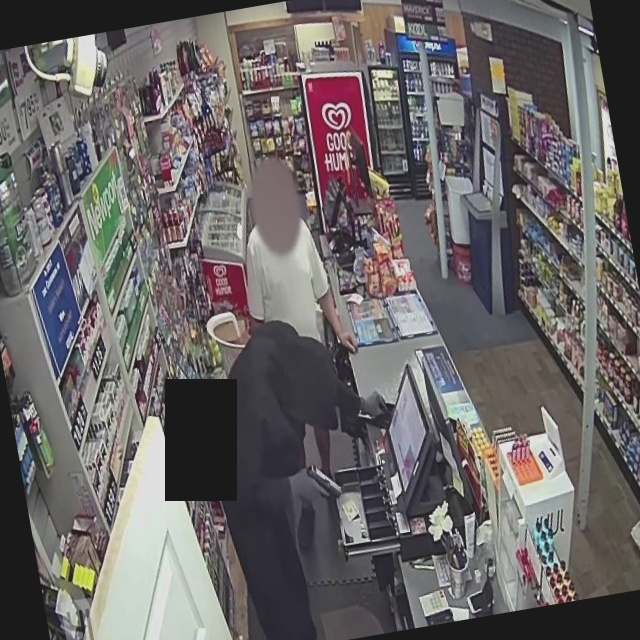gun: (293, 452, 351, 514)
